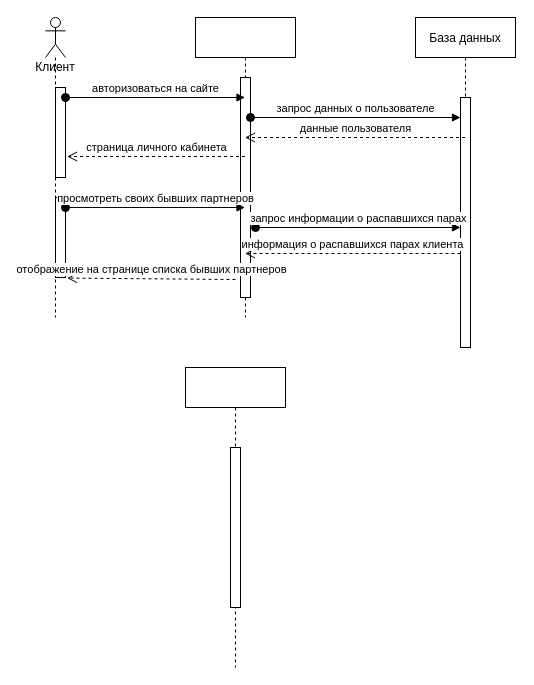
This 534x685 diagram has some shape labels left out. The shapes that lost their labels are listed below. From the top down, each one's box as (x1, y1, x2, y2) in pixels, then its label:
(194, 16, 296, 318): Сайт
(184, 366, 286, 668): Сваха
